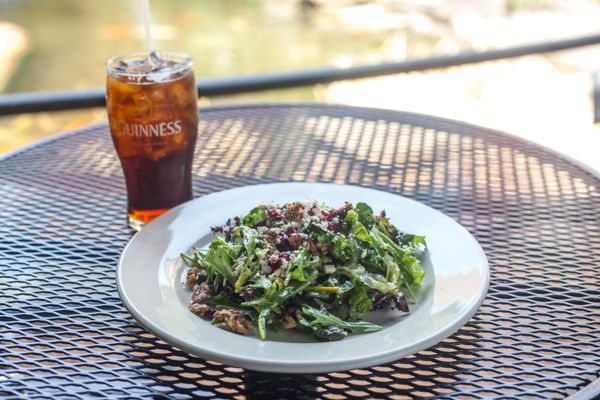pizza: (105, 49, 199, 231)
